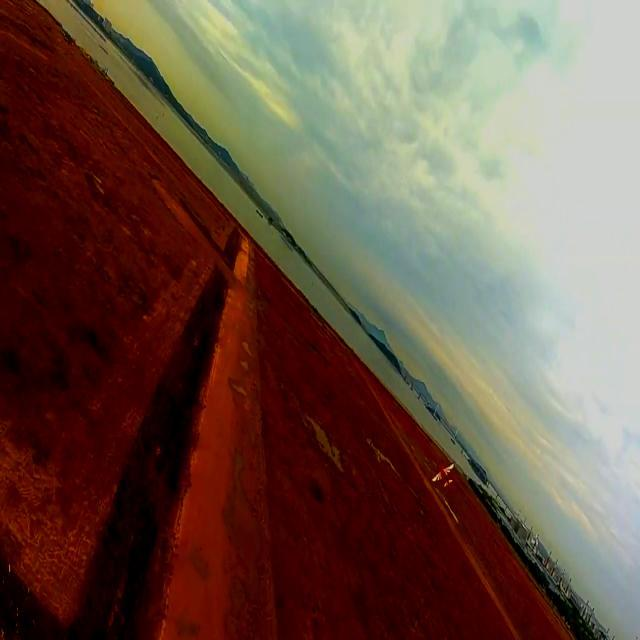iha: (430, 460, 463, 483)
